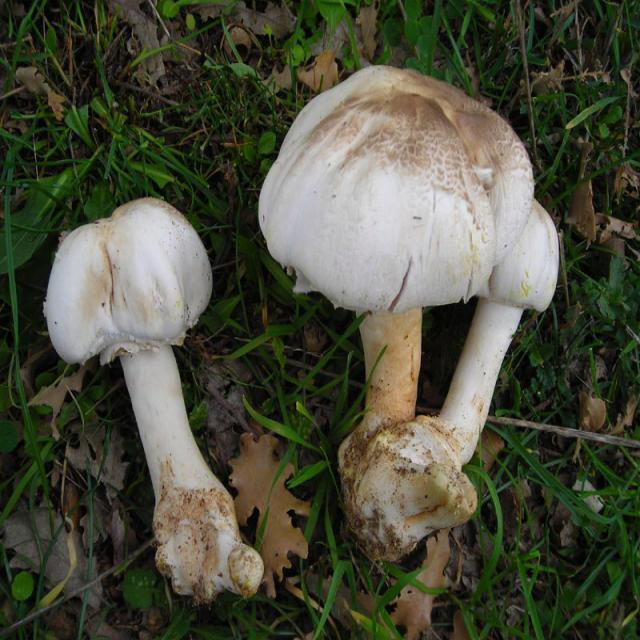Agaricus bisporus: (274, 66, 536, 554), (45, 199, 275, 591)
